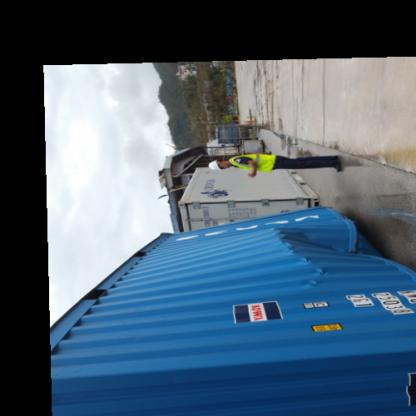Damage: (262, 207, 388, 297)
